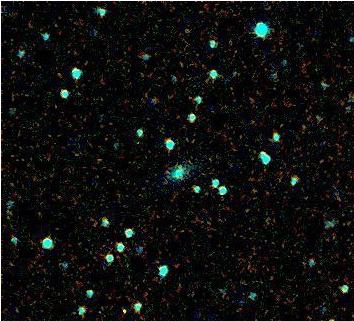star: (45, 59, 75, 89)
